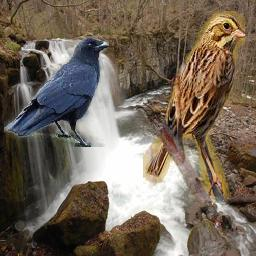Crow: (5, 37, 110, 148)
Sparrow: (143, 11, 245, 203)
